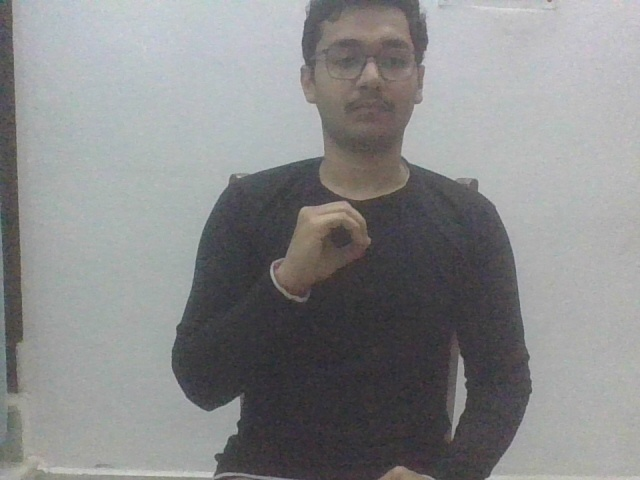O: (270, 199, 374, 304)
